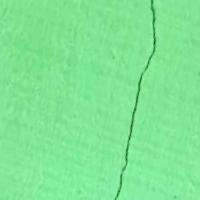crack: (105, 2, 171, 199)
